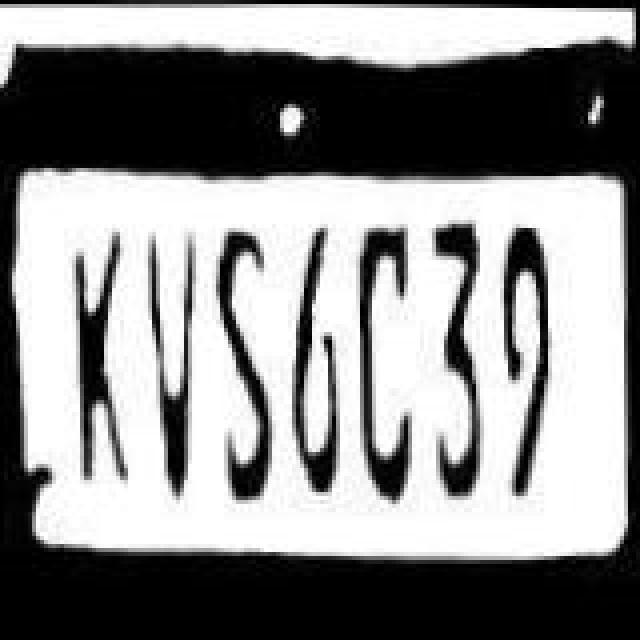3: (422, 216, 490, 520)
6: (286, 216, 346, 512)
9: (498, 212, 566, 528)
C: (344, 216, 424, 516)
K: (58, 218, 134, 514)
S: (202, 214, 278, 514)
V: (126, 220, 194, 508)
